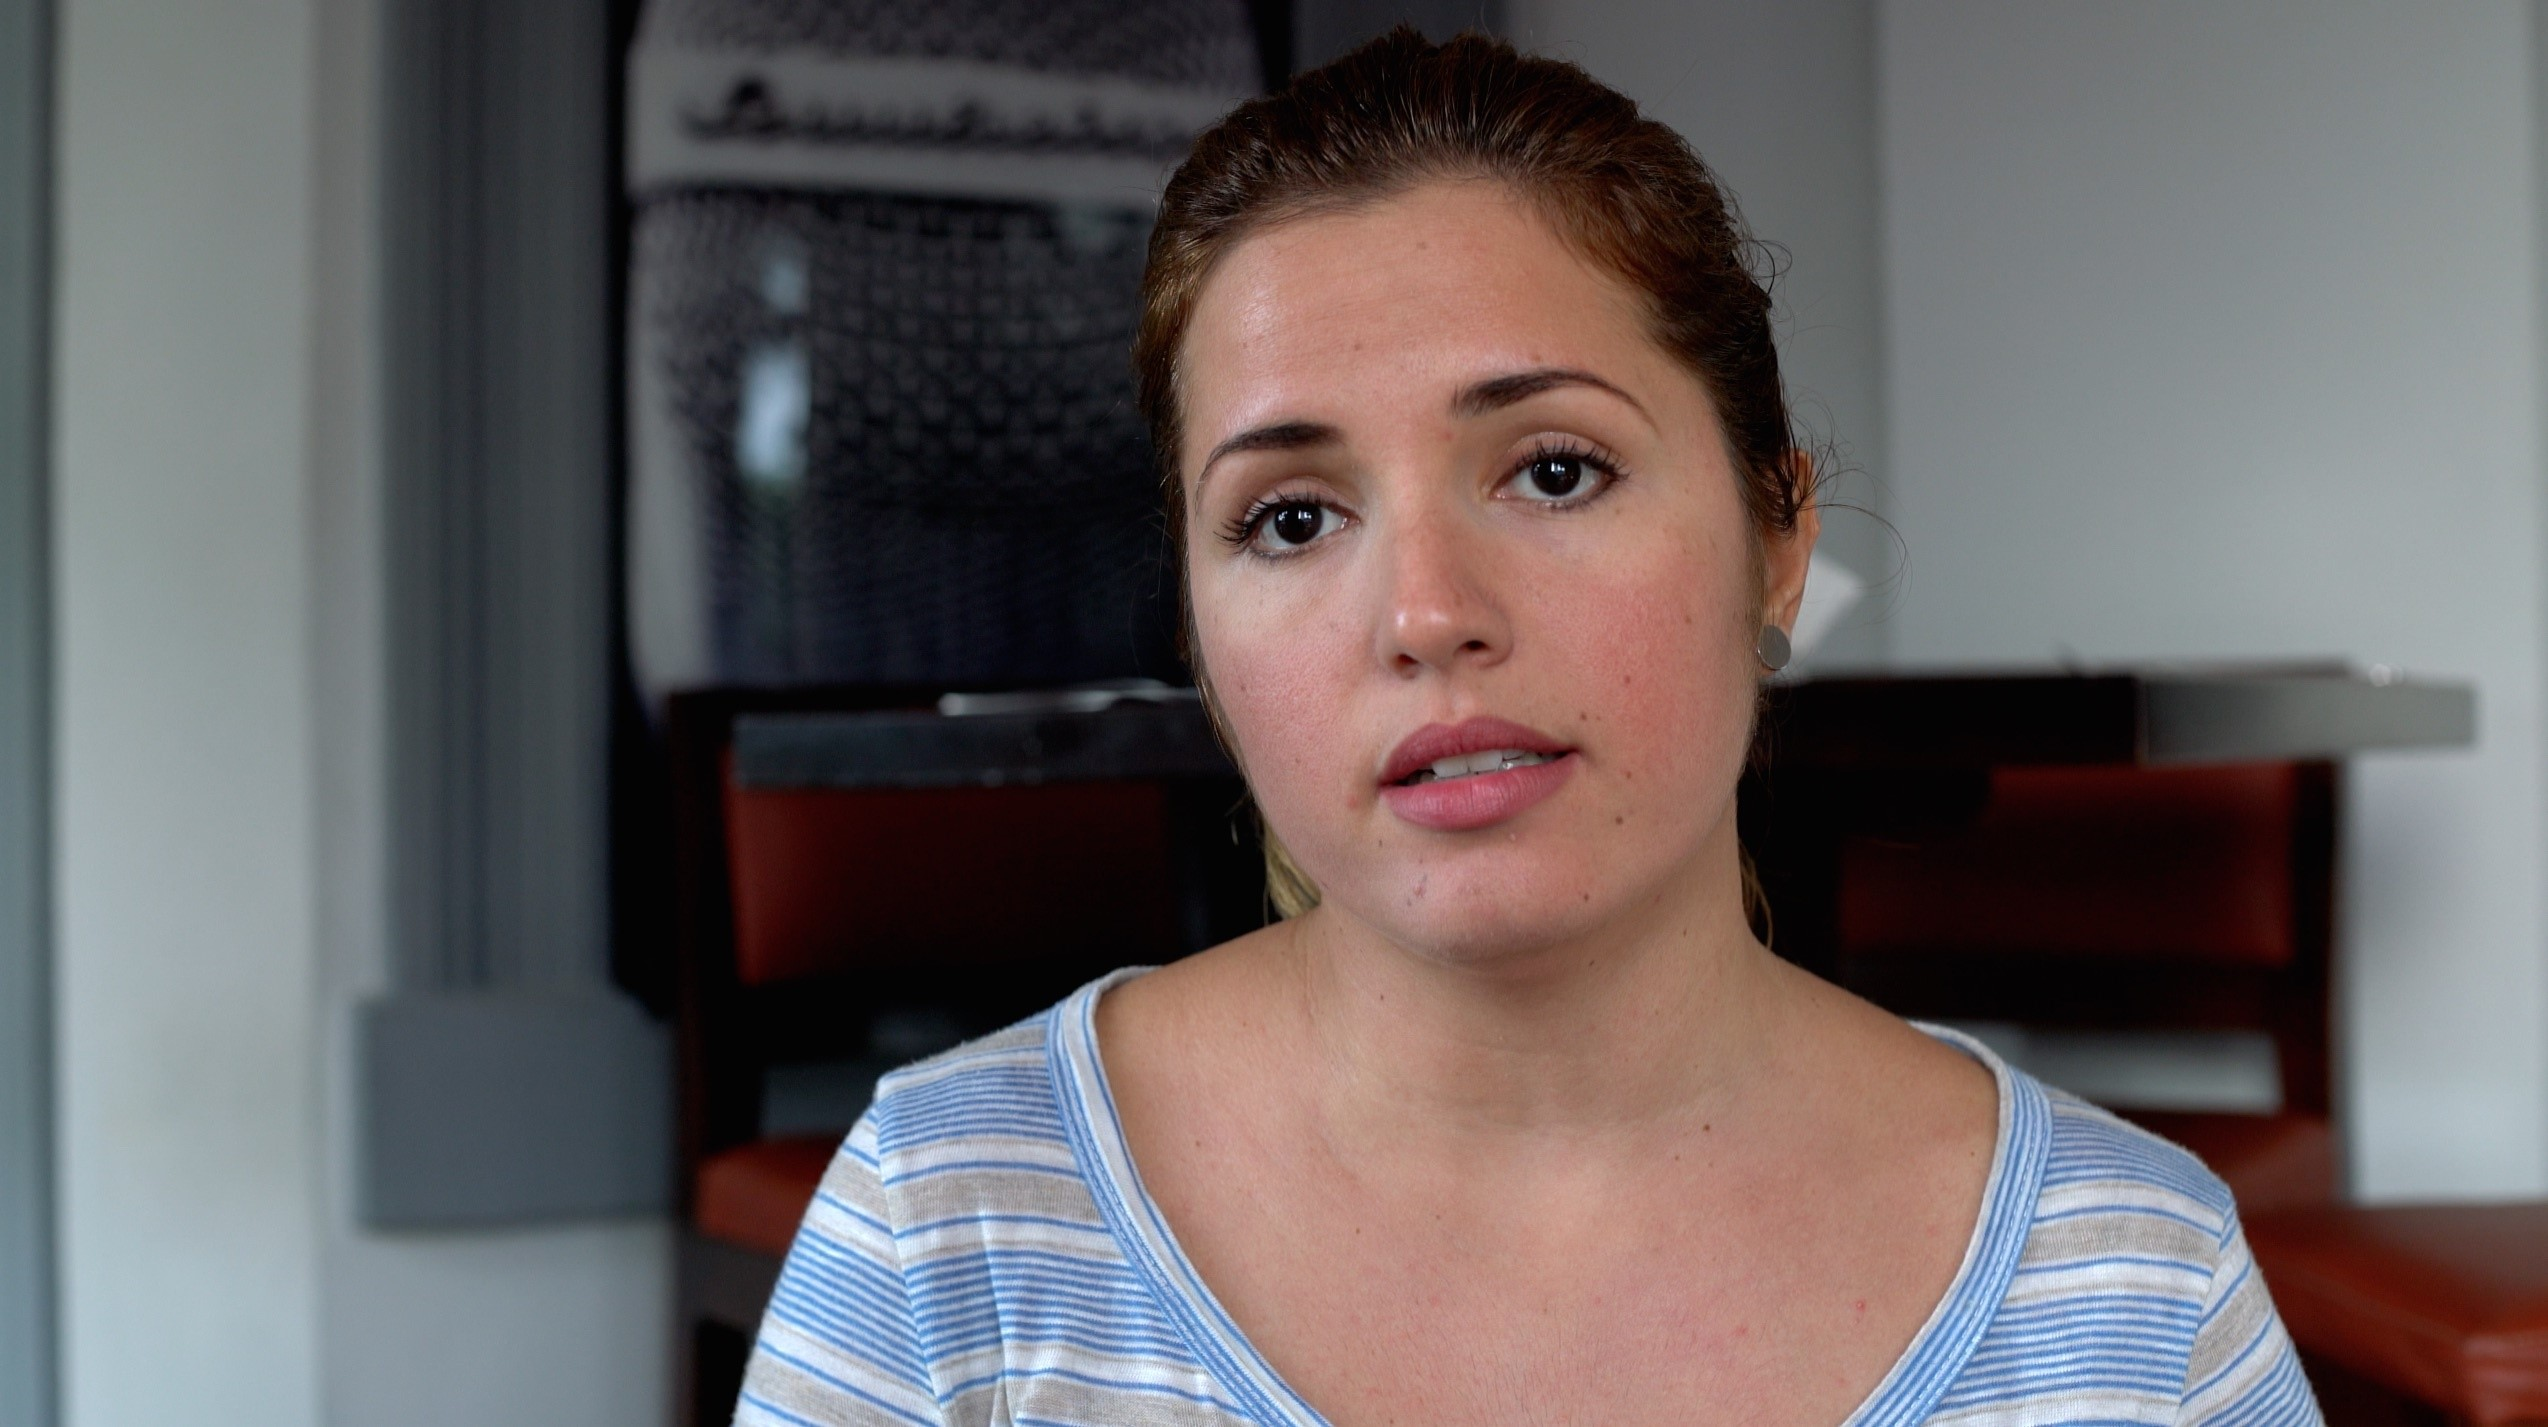face_no_mask: (1140, 41, 1823, 956)
